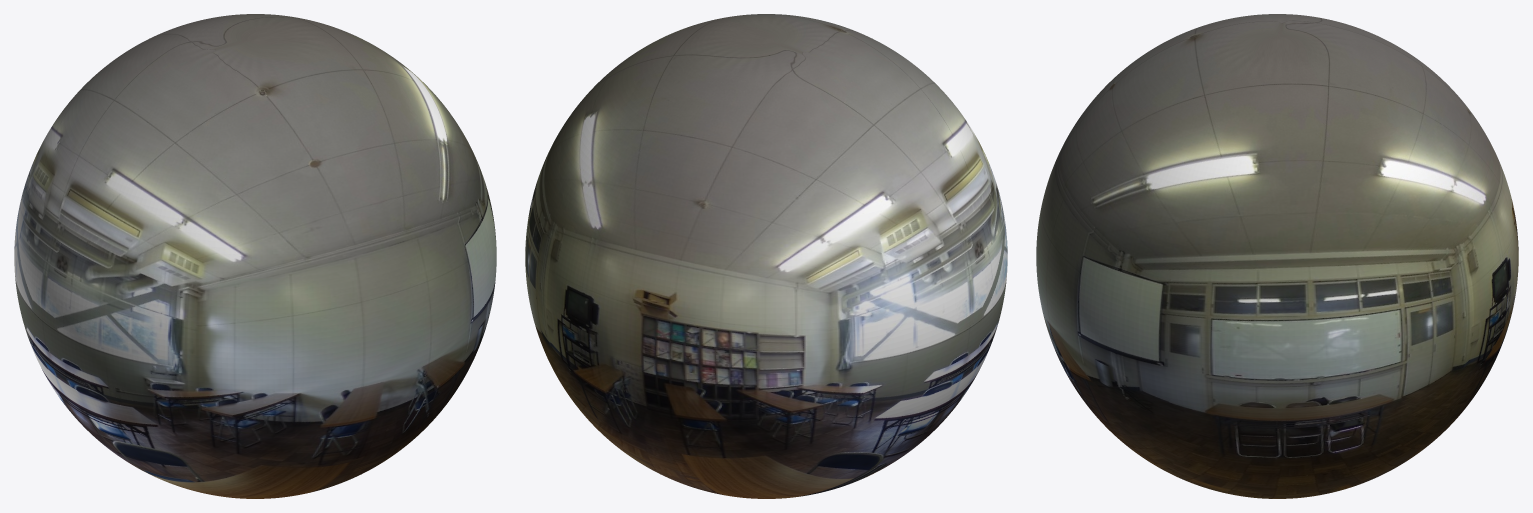
File: kyousitu2.fbx
The picture shows the model from 3 angles, left to right: view 1: azimuth 30°, elevation 25°; view 2: azimuth 150°, elevation 25°; view 3: azimuth 270°, elevation 25°; orthographic projection.
Parts seen in each view (by area): view 1: 球; view 2: 球; view 3: 球.
Boxes of the visible parts, x1,y1,x2,y2 form: 球: (14,14,496,498); 球: (525,14,1007,498); 球: (1036,14,1518,498).
Bounding box in the file's own units: 197 × 196 × 197.
Materials: 1 (1 with a texture image).
